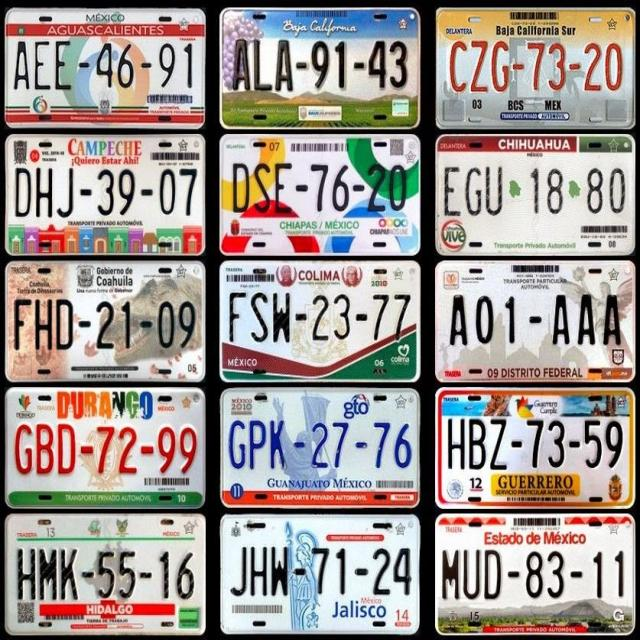placa: (436, 36, 634, 102), (2, 417, 204, 481), (437, 289, 637, 353), (2, 541, 206, 603), (218, 158, 420, 220), (222, 414, 420, 476), (222, 540, 420, 602), (223, 33, 419, 95), (436, 542, 634, 603), (223, 284, 417, 345), (4, 294, 203, 353), (6, 37, 204, 95), (5, 165, 201, 223), (439, 161, 635, 219), (437, 416, 635, 472)
